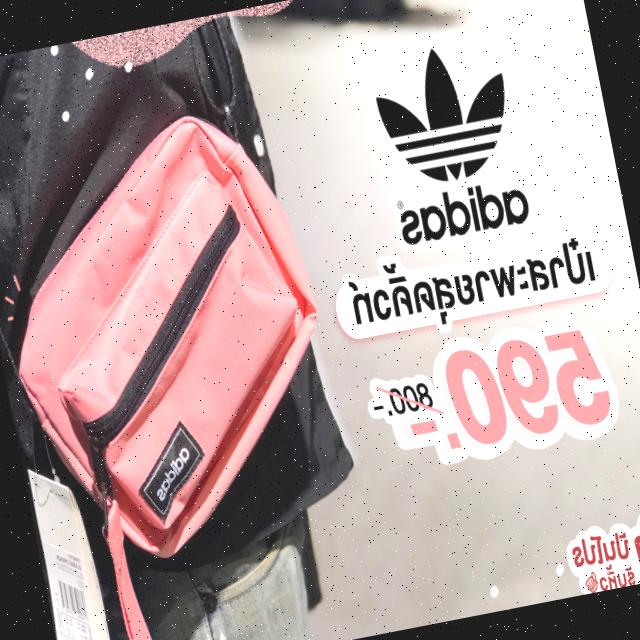handbag: (0, 91, 365, 572)
